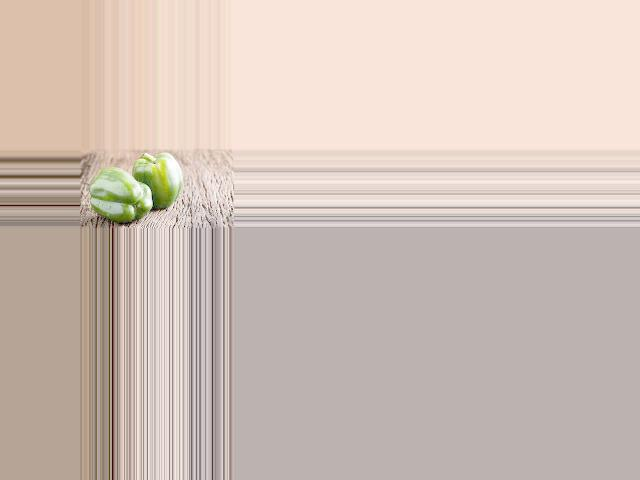bell_pepper: (90, 166, 155, 220)
